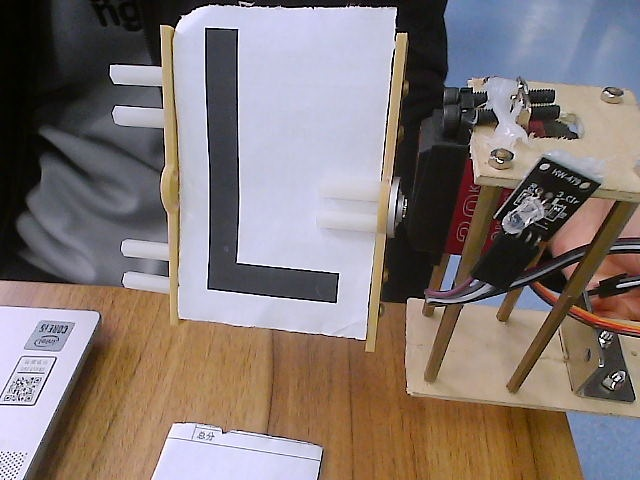L: (103, 2, 448, 360)
